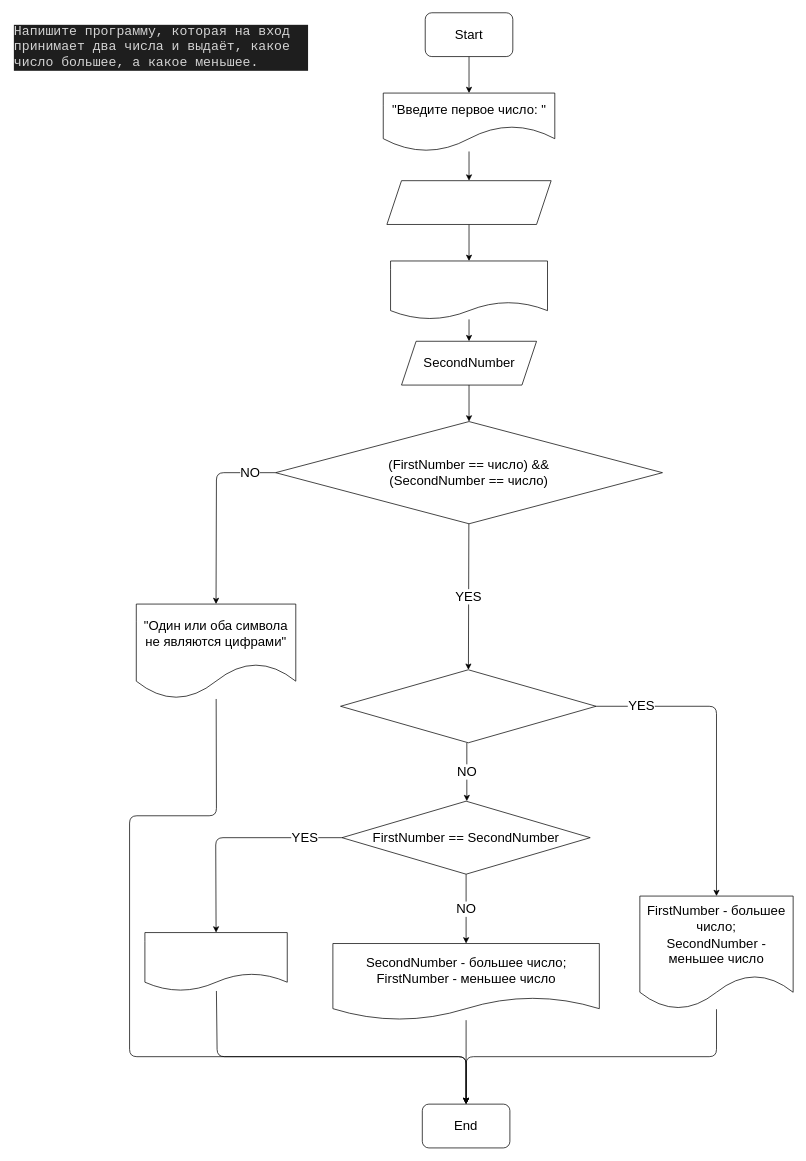
This 806x1161 diagram has some shape labels left out. Here are the shapes that lost their labels. From the top down, the centre of each, then its label:
[468,202]: FirstNumber
[469,289]: "Введите второе число: "
[468,706]: FirstNumber > SecondNumber
[215,961]: "Введенные числа равны!"
